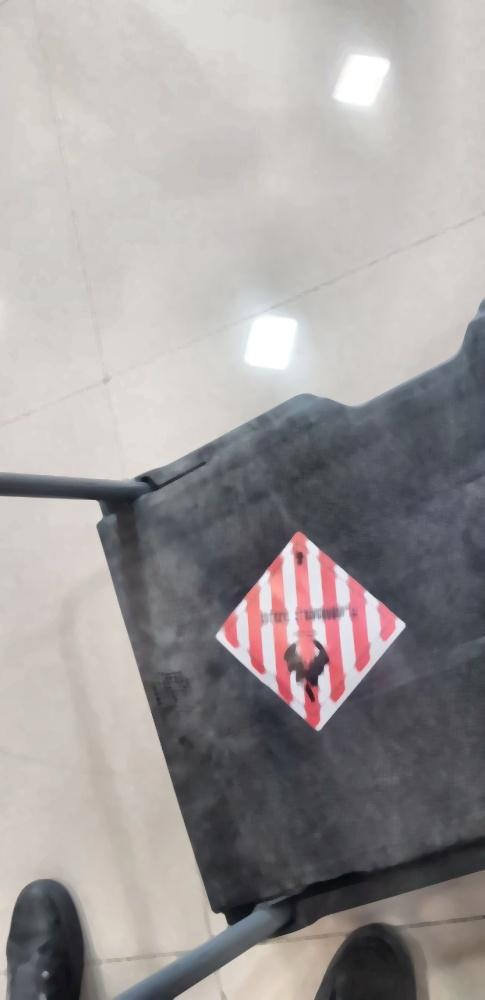flammable-solid: (210, 532, 414, 737)
